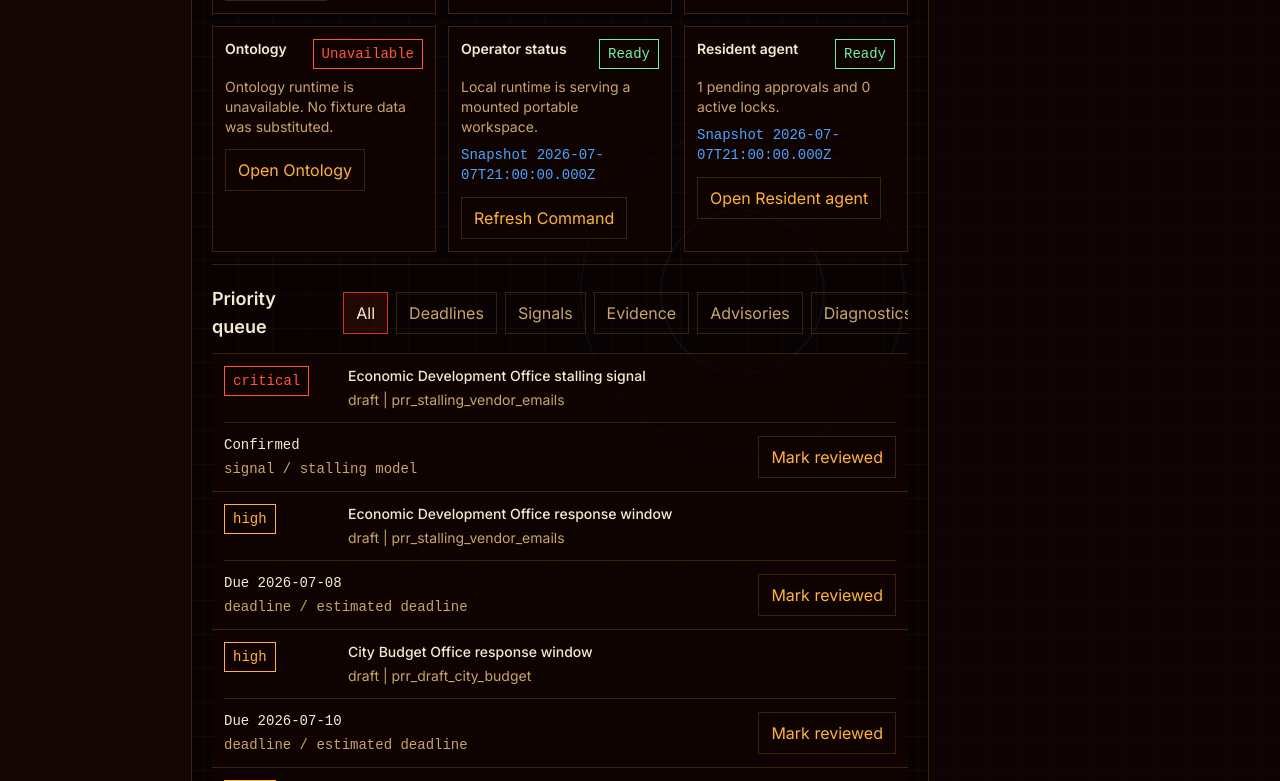
Test: agent app integration › does not carry selected Command decision rail controls into the Agent module
The image size is (1280, 781).
(page scrolled)
Step 1. Click the button with aria-label "Select Economic Development Office stalling signal" → (497, 376), box 348,366 -> 896,410
(page scrolled)
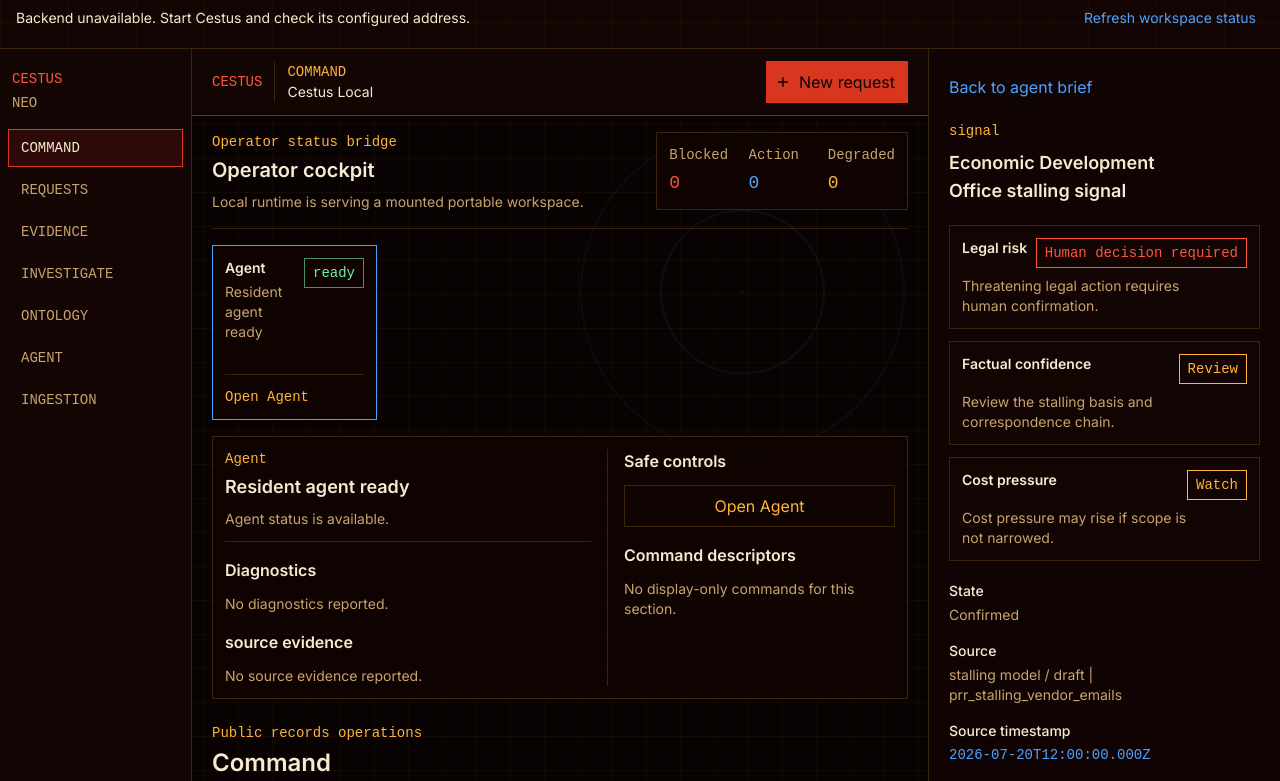
Expected: the button "Back to agent brief" is shown, 949,69 -> 1092,105
Step 2. Click the link "AGENT" → (42, 358), box 21,350 -> 63,366
(page scrolled)
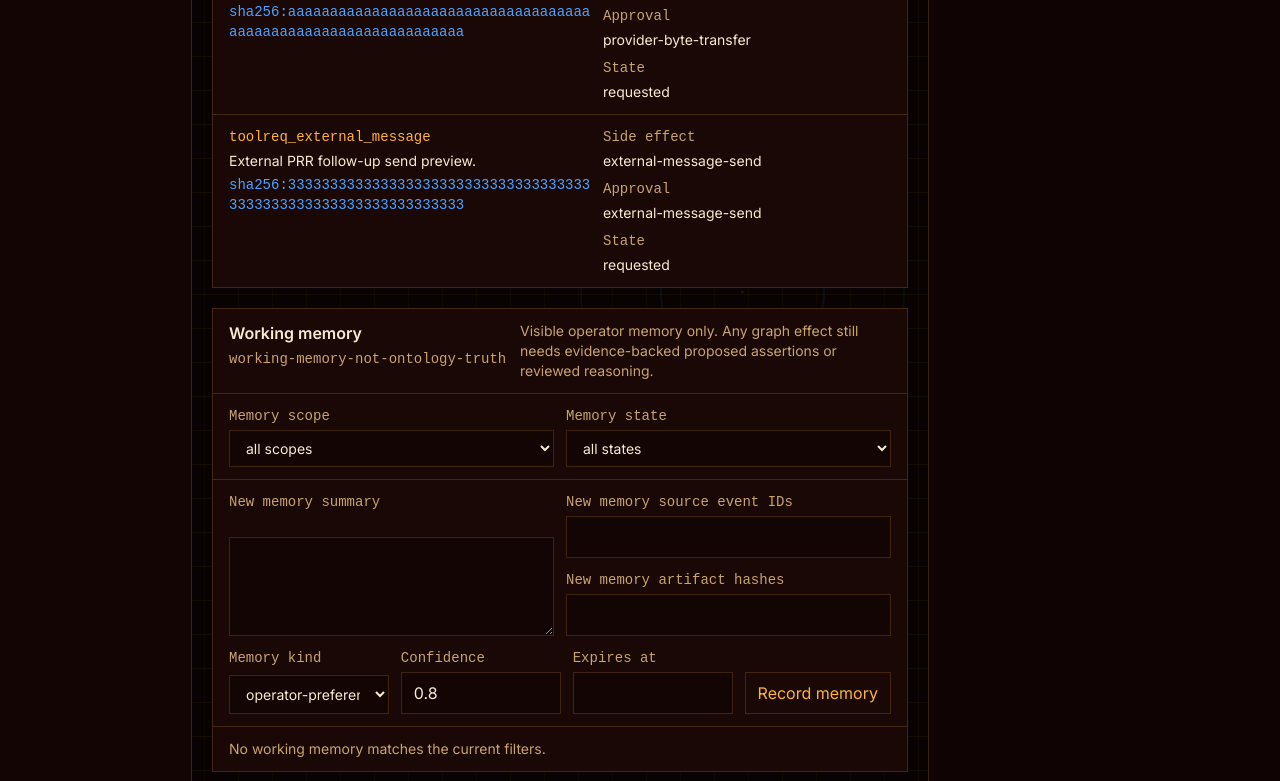
Expected: the button "Back to agent brief" is gone
Expected: the button "Record memory" is shown, 745,672 -> 891,714
